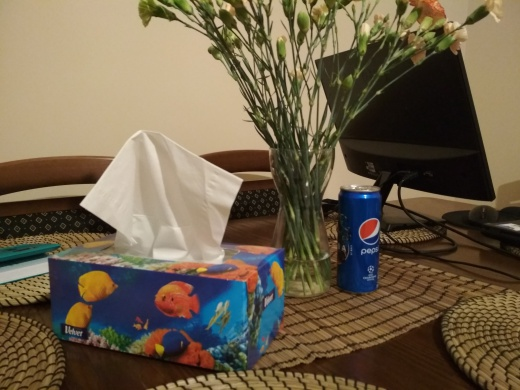pepsi: (334, 181, 385, 296)
